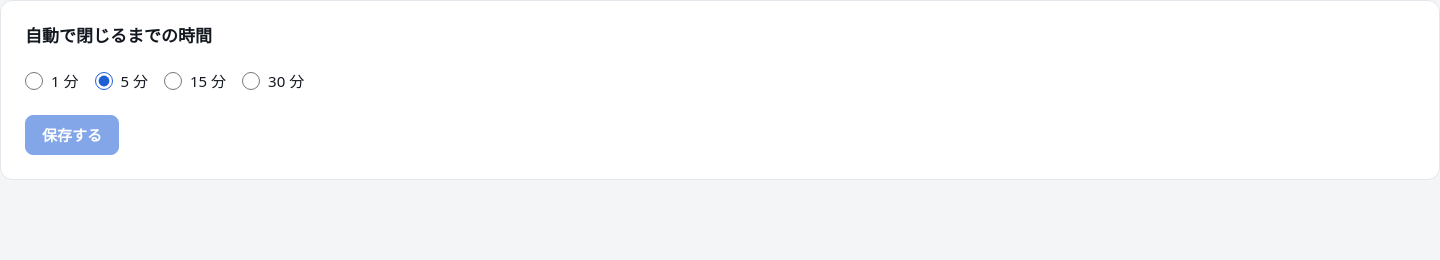
Scenario: 自動で閉じるまでの時間 › ほかの端末で設定が変わっていたら、開き直すよう知らせる
Click the radio button labelled "30 分".
click(251, 81)  # box [242,72,260,90]
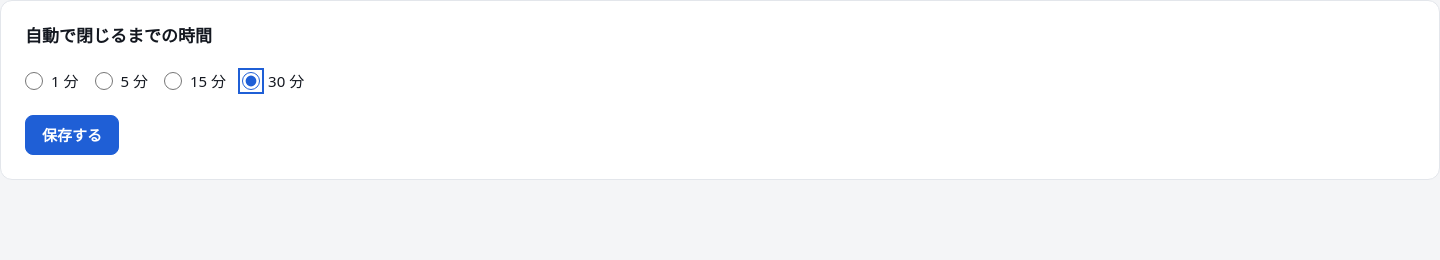
Click the button "保存する".
click(72, 135)  # box [25,115,119,155]
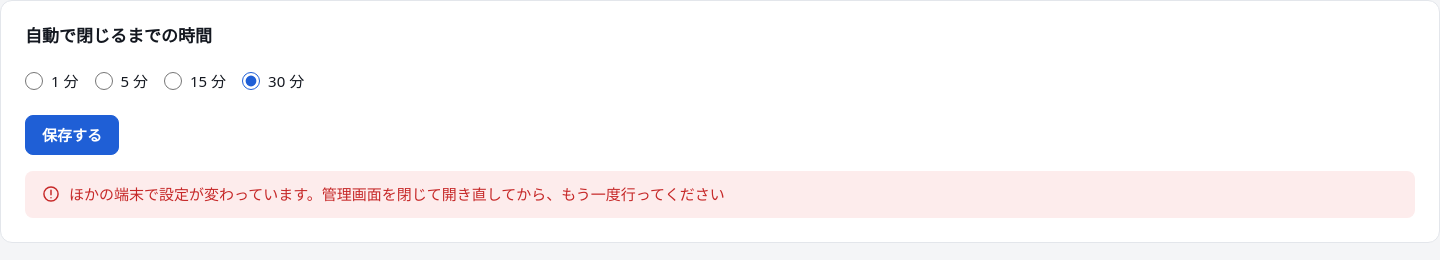
Check: the message shows "ほかの端末で設定が変わっています", box [69,184,725,204]
